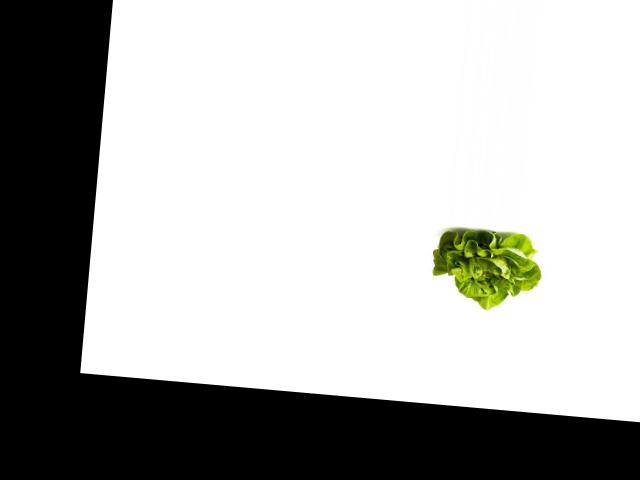lettuce: (427, 224, 548, 313)
